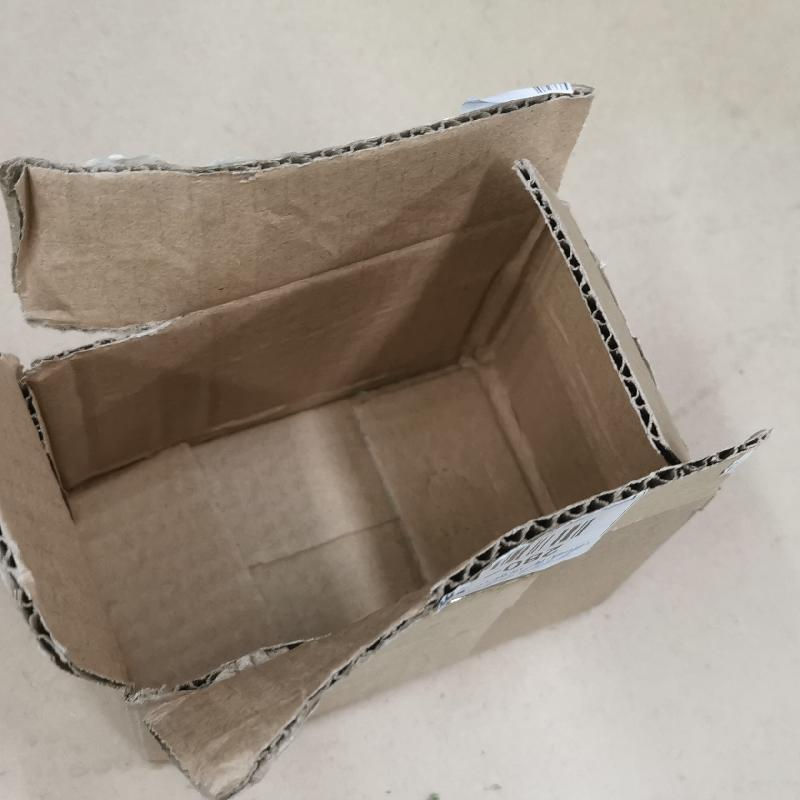boxes: (9, 83, 774, 796)
